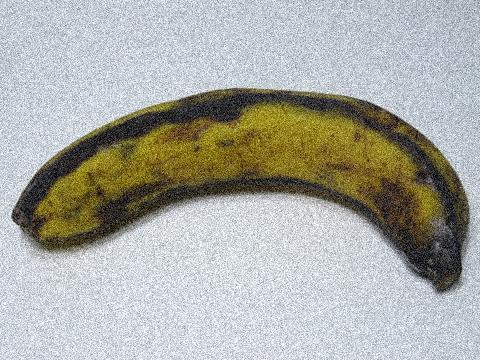overripe: (4, 82, 470, 306)
